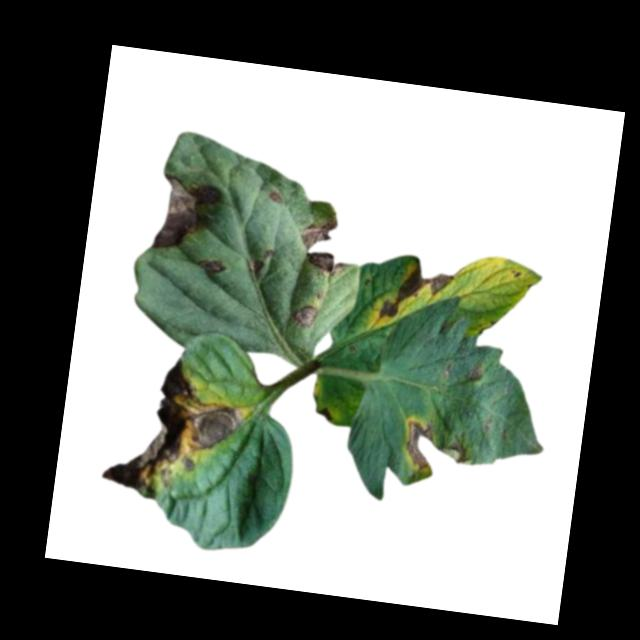Early_blight: (97, 353, 247, 505), (149, 172, 224, 260), (374, 257, 454, 329), (400, 416, 476, 476), (295, 210, 355, 278), (290, 303, 322, 329), (195, 256, 224, 277), (464, 362, 486, 385), (316, 406, 335, 424), (246, 258, 264, 275), (265, 190, 283, 206)
